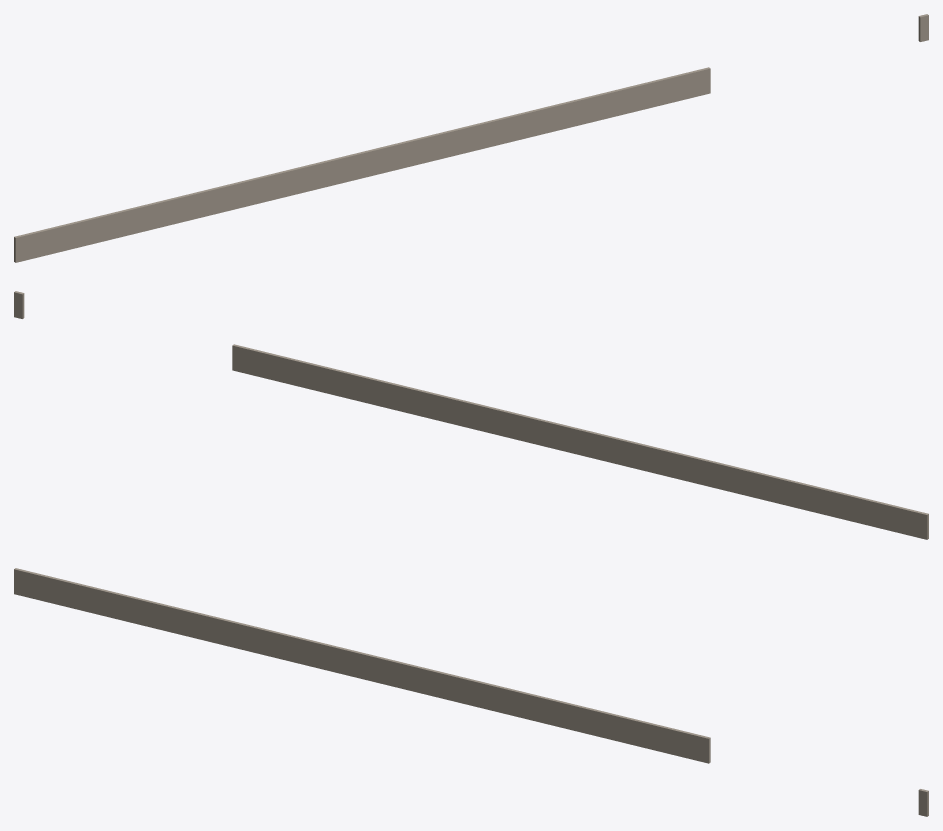
Rendered from SM_Skirting_Bedroom_South_001.fbx.
3 renders of one model, top to bottom at view 1: azimuth 30°, elevation 25°; view 2: azimuth 150°, elevation 25°; view 3: azimuth 330°, elevation 25°, orthographic.
Parts seen in each view (by area): view 1: SM_Skirting_Bedroom_South_001; view 2: SM_Skirting_Bedroom_South_001; view 3: SM_Skirting_Bedroom_South_001.
Boxes of the visible parts, x1=… form: SM_Skirting_Bedroom_South_001: x1=14, y1=14, x2=928, y2=262; SM_Skirting_Bedroom_South_001: x1=14, y1=291, x2=928, y2=539; SM_Skirting_Bedroom_South_001: x1=14, y1=568, x2=928, y2=816.
Size of the model in its own units: 422 by 11 by 1.4.
